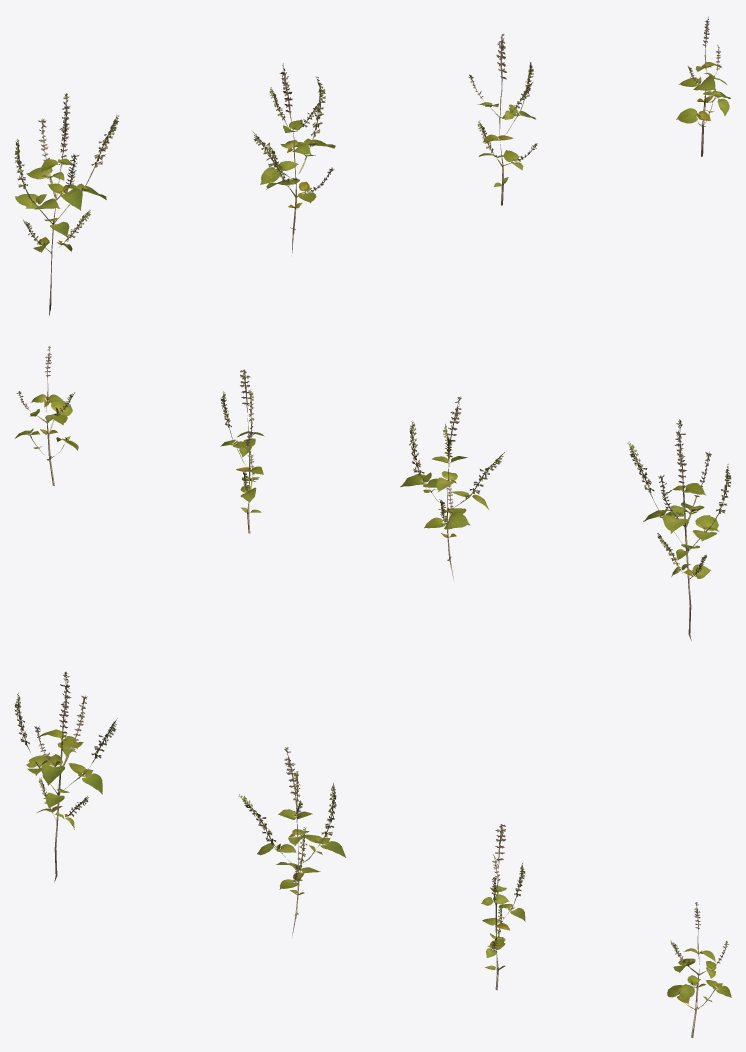
Rendered from shrub-03.glb.
The picture shows the model from 3 angles, top to bottom: view 1: azimuth 30°, elevation 25°; view 2: azimuth 150°, elevation 25°; view 3: azimuth 330°, elevation 25°; orthographic projection. The views are drawn at different scales.
Visible parts, largest first — view 1: shrub_03_a, shrub_03_b, shrub_03_c, shrub_03_d; view 2: shrub_03_a, shrub_03_b, shrub_03_c, shrub_03_d; view 3: shrub_03_a, shrub_03_b, shrub_03_d, shrub_03_c.
Part boxes in pixels (x1=…): shrub_03_a: x1=14, y1=93, x2=118, y2=315; shrub_03_b: x1=252, y1=63, x2=335, y2=252; shrub_03_c: x1=468, y1=33, x2=537, y2=205; shrub_03_d: x1=676, y1=16, x2=730, y2=156; shrub_03_a: x1=627, y1=419, x2=730, y2=640; shrub_03_b: x1=400, y1=396, x2=504, y2=580; shrub_03_c: x1=220, y1=369, x2=264, y2=533; shrub_03_d: x1=14, y1=346, x2=78, y2=485; shrub_03_a: x1=14, y1=671, x2=117, y2=882; shrub_03_b: x1=238, y1=747, x2=345, y2=937; shrub_03_d: x1=667, y1=902, x2=731, y2=1037; shrub_03_c: x1=481, y1=824, x2=525, y2=990.
Bounding box in the file's own units: 1.37 × 0.4028 × 0.1512.
1 material, 1 textured.
